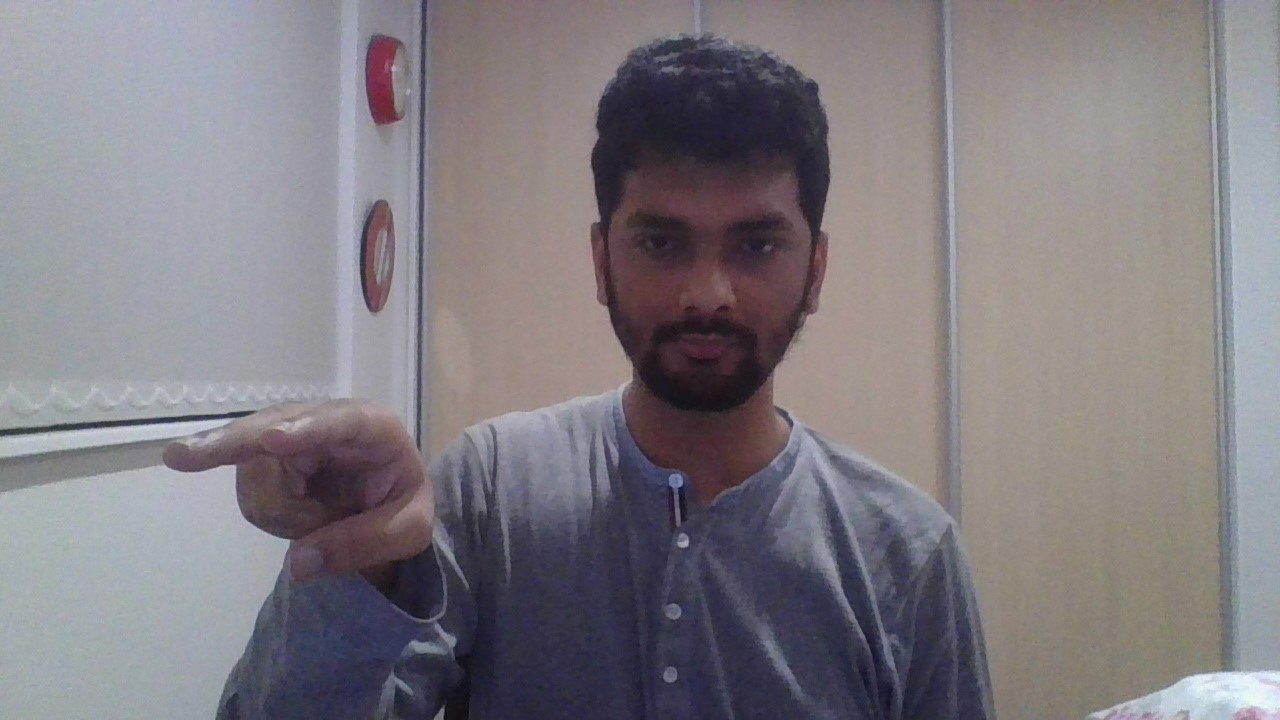look_around: (163, 401, 433, 583)
